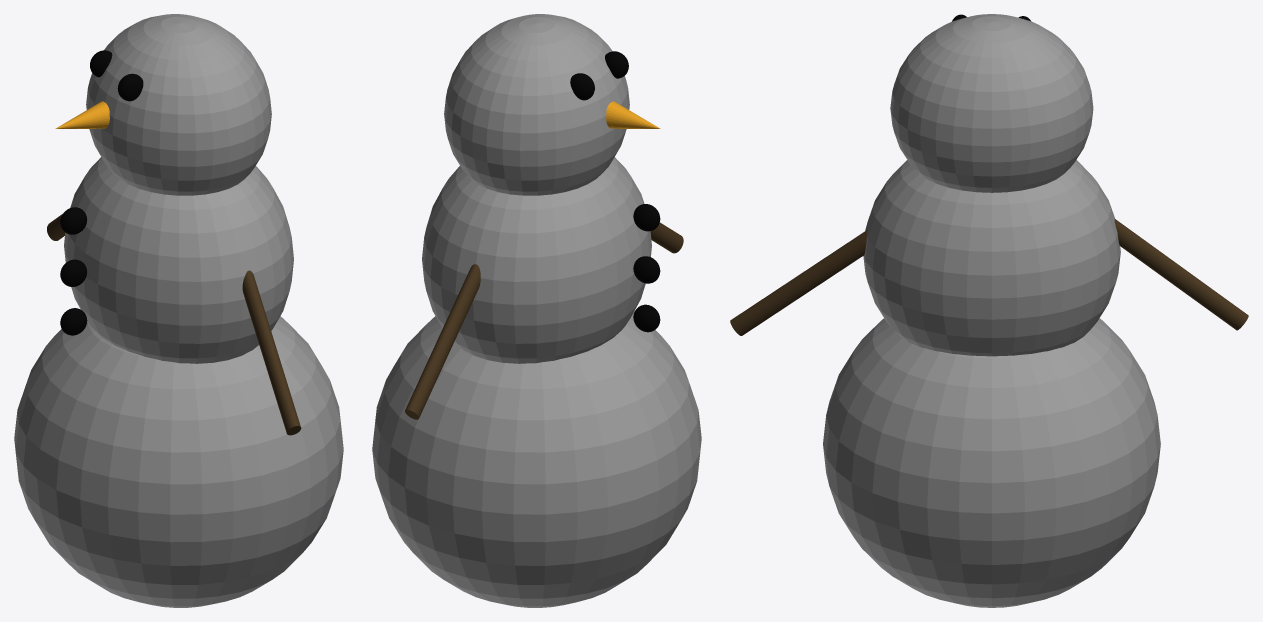
The model's file is AnushaSnowman.glb.
The picture shows the model from 3 angles, left to right: view 1: azimuth 30°, elevation 25°; view 2: azimuth 150°, elevation 25°; view 3: azimuth 270°, elevation 25°; orthographic projection.
Visible parts, largest first — view 1: Bottom Body, Middle Body, Head, Arm.001, Nose, Eye.004, Eye.002, Eye.003, Eye.001; view 2: Bottom Body, Middle Body, Head, Arm, Nose, Arm.001, Eye.003, Eye.004, Eye.002, Eye, Eye.001; view 3: Bottom Body, Middle Body, Head, Arm.001, Arm.
Boxes of the visible parts, x1=… form: Bottom Body: x1=14, y1=316, x2=343, y2=607; Middle Body: x1=64, y1=157, x2=293, y2=363; Head: x1=86, y1=14, x2=271, y2=195; Arm.001: x1=242, y1=270, x2=301, y2=435; Nose: x1=55, y1=101, x2=109, y2=128; Eye.004: x1=60, y1=308, x2=87, y2=335; Eye.002: x1=60, y1=207, x2=87, y2=234; Eye.003: x1=60, y1=259, x2=86, y2=286; Eye.001: x1=117, y1=73, x2=143, y2=101; Bottom Body: x1=372, y1=311, x2=701, y2=607; Middle Body: x1=422, y1=157, x2=651, y2=363; Head: x1=444, y1=14, x2=629, y2=195; Arm: x1=405, y1=264, x2=480, y2=419; Nose: x1=606, y1=101, x2=660, y2=128; Arm.001: x1=650, y1=222, x2=683, y2=253; Eye.003: x1=633, y1=256, x2=660, y2=283; Eye.004: x1=633, y1=304, x2=660, y2=332; Eye.002: x1=633, y1=204, x2=660, y2=231; Eye: x1=570, y1=73, x2=594, y2=100; Eye.001: x1=605, y1=51, x2=628, y2=78; Bottom Body: x1=823, y1=318, x2=1160, y2=607; Middle Body: x1=863, y1=160, x2=1120, y2=356; Head: x1=890, y1=14, x2=1093, y2=192; Arm.001: x1=730, y1=230, x2=867, y2=335; Arm: x1=1114, y1=219, x2=1248, y2=330.
Bounding box in the file's own units: 2.77 × 5.31 × 4.37.
